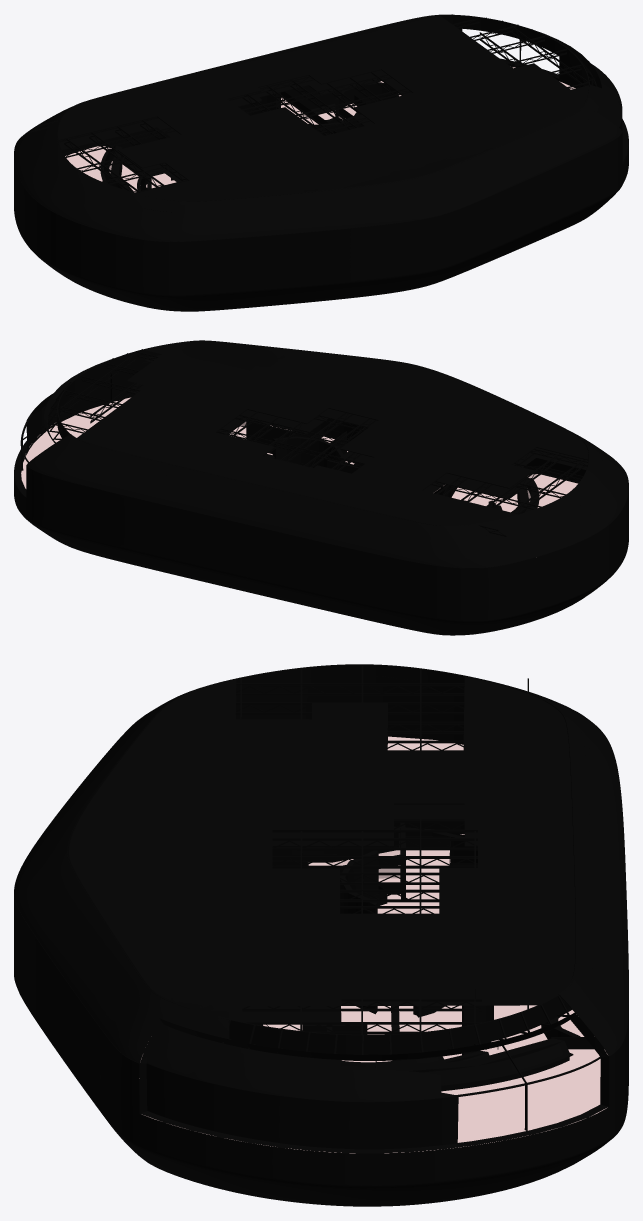
Rendered from contorl_room_vc.glb.
The picture shows the model from 3 angles, top to bottom: view 1: azimuth 30°, elevation 25°; view 2: azimuth 150°, elevation 25°; view 3: azimuth 270°, elevation 25°; orthographic projection. The views are drawn at different scales.
Visible parts, largest first — view 1: 物件_68, 物件_67, 物件_138, 物件_179, 物件_139, 物件_172, 物件_168, 物件_146, 物件_137, 物件_169, 物件_154, 物件_170 (+35 smaller); view 2: 物件_68, 物件_67, 物件_176, 物件_177, 物件_138, 物件_160, 物件_144, 物件_173, 物件_175, 物件_152, 物件_178, 物件_174 (+31 smaller); view 3: 物件_68, 物件_67, 物件_69, 物件_54, 物件_138, 物件_117, 物件_649, 物件_139, 物件_65, 物件_137, 物件_180, 物件_183 (+37 smaller).
Boxes of the visible parts, x1,y1,x2,y2 form: 物件_68: [58, 15, 588, 200]; 物件_67: [58, 15, 588, 197]; 物件_138: [17, 152, 627, 311]; 物件_179: [213, 228, 355, 292]; 物件_139: [485, 152, 587, 250]; 物件_172: [39, 203, 119, 287]; 物件_168: [355, 217, 432, 280]; 物件_146: [213, 199, 355, 239]; 物件_137: [468, 131, 587, 197]; 物件_169: [432, 198, 485, 269]; 物件_154: [39, 177, 135, 234]; 物件_170: [165, 240, 213, 294]; 物件_68: [77, 341, 588, 525]; 物件_67: [78, 341, 588, 522]; 物件_176: [242, 523, 406, 612]; 物件_177: [79, 484, 241, 575]; 物件_138: [15, 483, 627, 635]; 物件_160: [242, 495, 406, 560]; 物件_144: [79, 460, 252, 522]; 物件_173: [517, 529, 603, 614]; 物件_175: [407, 560, 470, 620]; 物件_152: [502, 504, 602, 561]; 物件_178: [26, 465, 78, 536]; 物件_174: [471, 562, 517, 620]; 物件_68: [69, 676, 575, 1019]; 物件_67: [69, 697, 574, 1018]; 物件_69: [146, 1025, 458, 1149]; 物件_54: [67, 664, 577, 1054]; 物件_138: [18, 990, 628, 1206]; 物件_117: [139, 1058, 607, 1153]; 物件_649: [139, 1012, 608, 1153]; 物件_139: [33, 934, 100, 1108]; 物件_65: [236, 676, 606, 1052]; 物件_137: [34, 899, 123, 1026]; 物件_180: [378, 1135, 531, 1184]; 物件_183: [227, 1139, 377, 1185].
Size of the model in its own units: 93.13 by 20.02 by 56.84.
